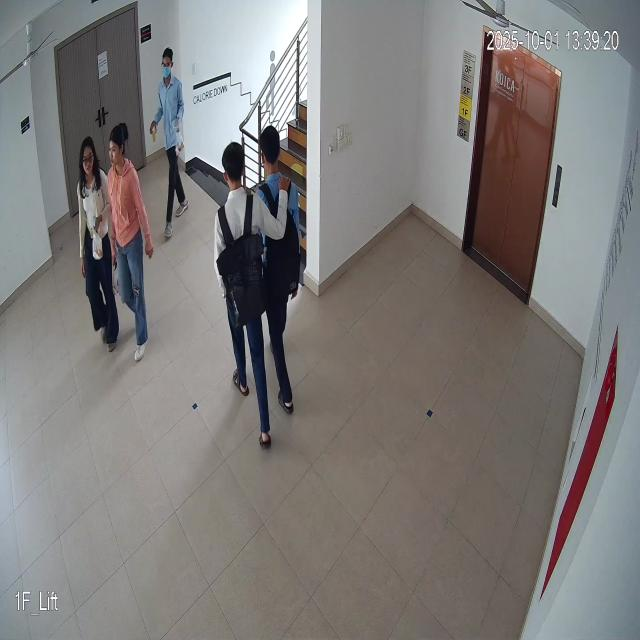face: (105, 125, 130, 172), (81, 132, 97, 178)
